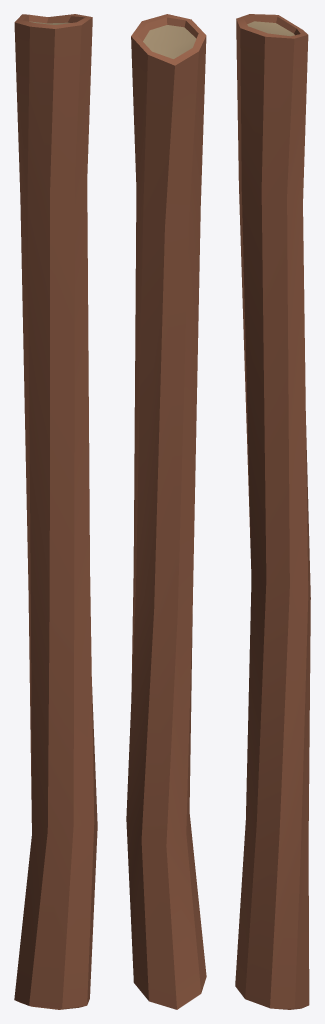
Rendered from LightWoodPoleLargeWoodPole1.fbx.
3 renders of one model, left to right at view 1: azimuth 30°, elevation 25°; view 2: azimuth 210°, elevation 25°; view 3: azimuth 330°, elevation 25°, orthographic. The views are drawn at different scales.
Parts seen in each view (by area): view 1: LightWoodPoleLargeWoodPole1; view 2: LightWoodPoleLargeWoodPole1; view 3: LightWoodPoleLargeWoodPole1.
Boxes of the visible parts, x1,y1,x2,y2 form: LightWoodPoleLargeWoodPole1: [14, 14, 97, 1009]; LightWoodPoleLargeWoodPole1: [126, 14, 206, 1009]; LightWoodPoleLargeWoodPole1: [235, 14, 310, 1009].
Size of the model in its own units: 50.32 by 713 by 47.67.
